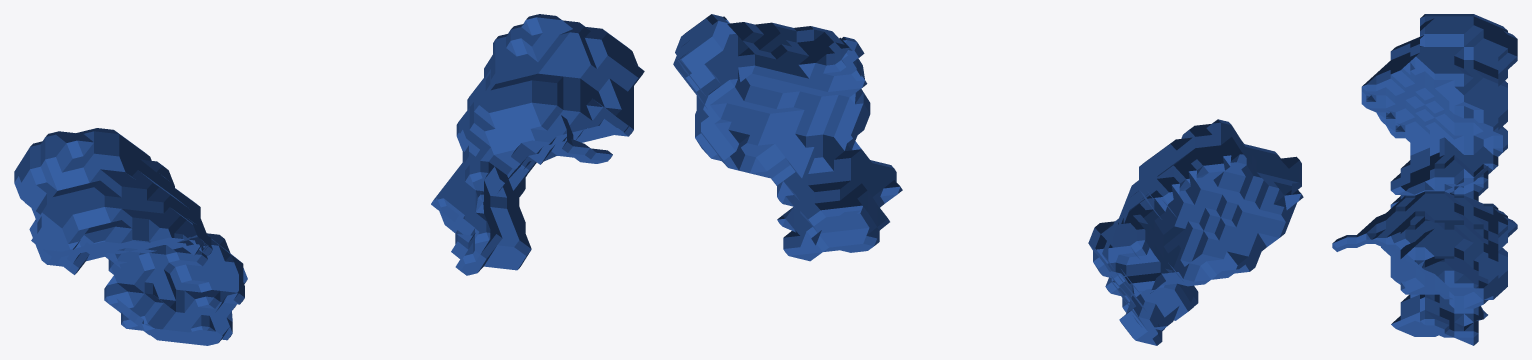
File: region_0107_PGc__caudal_preglomerular_nucleus_.glb
3 views of the same model, side by side, from view 1: azimuth 30°, elevation 25°; view 2: azimuth 150°, elevation 25°; view 3: azimuth 270°, elevation 25° (orthographic). The views are drawn at different scales.
Parts seen in each view (by area): view 1: world; view 2: world; view 3: world.
Boxes of the visible parts, left/top/right/bottom form: world: left=14, top=14, right=644, bottom=345; world: left=673, top=14, right=1303, bottom=345; world: left=1332, top=14, right=1517, bottom=345.
Bounding box in the file's own units: 0.44 × 0.136 × 0.152.
